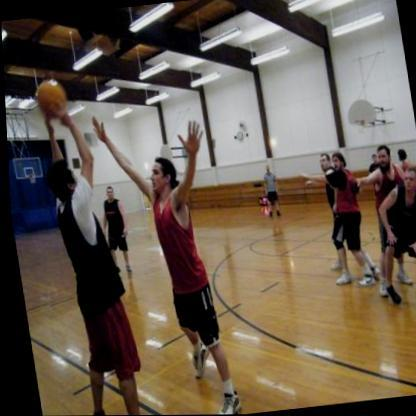basketball: (31, 76, 69, 116)
